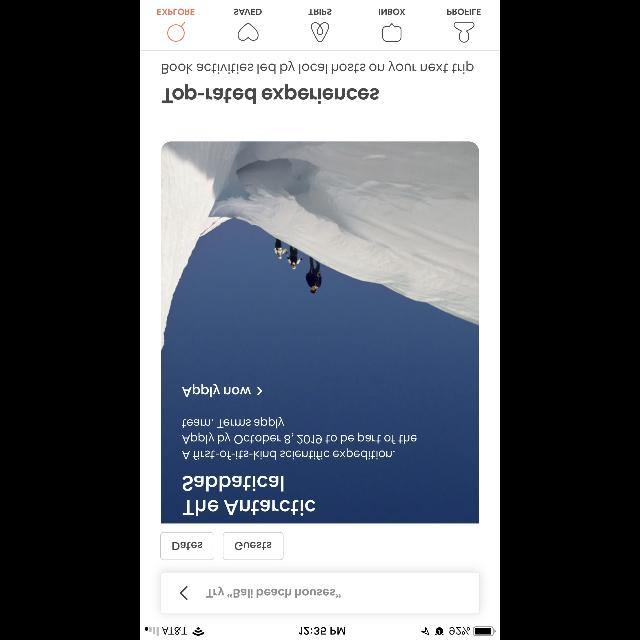icon: (382, 22, 402, 42), (454, 22, 474, 42), (167, 22, 185, 42), (238, 23, 258, 41), (180, 586, 188, 600), (258, 387, 262, 395)
image: (161, 141, 479, 523), (311, 22, 329, 42)
input: (160, 572, 480, 614)
text: (182, 416, 416, 459), (182, 476, 316, 516), (162, 84, 378, 104), (162, 61, 474, 74), (206, 586, 340, 598), (182, 384, 252, 396), (158, 9, 195, 15), (447, 9, 481, 15), (379, 8, 405, 15), (234, 9, 262, 15), (308, 9, 332, 15)
textbutton: (223, 532, 283, 560), (160, 532, 214, 560)
uppertaskbar: (140, 626, 500, 640)
